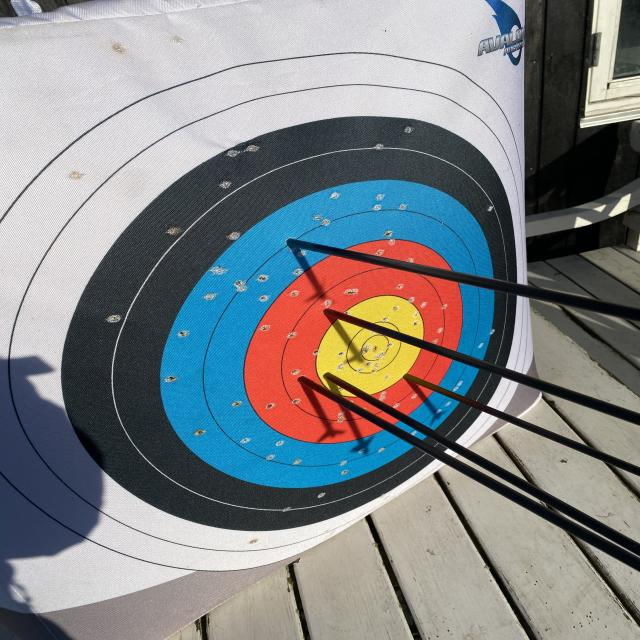Arrow_Blue: (274, 226, 307, 260)
Arrow_Red: (284, 369, 320, 394), (395, 369, 423, 391), (318, 297, 338, 325)
Arrow_Yellow: (321, 361, 342, 391)
